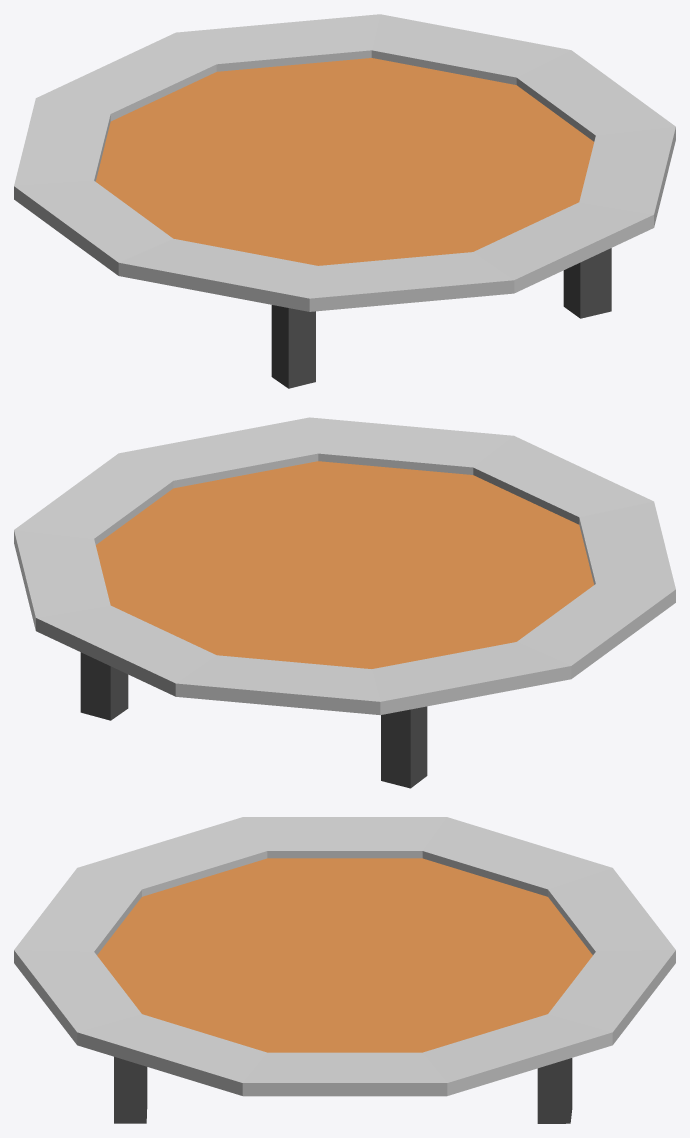
Rendered from trampoline.fbx.
3 views of the same model, one above another, from view 1: azimuth 30°, elevation 25°; view 2: azimuth 150°, elevation 25°; view 3: azimuth 270°, elevation 25° (orthographic). The views are drawn at different scales.
Visible parts, largest first — view 1: Circle; view 2: Circle; view 3: Circle.
Boxes of the visible parts, bbox=[...] form: Circle: bbox=[14, 14, 675, 388]; Circle: bbox=[14, 417, 675, 788]; Circle: bbox=[14, 817, 675, 1123].
Bounding box in the file's own units: 380 × 68.39 × 400.
